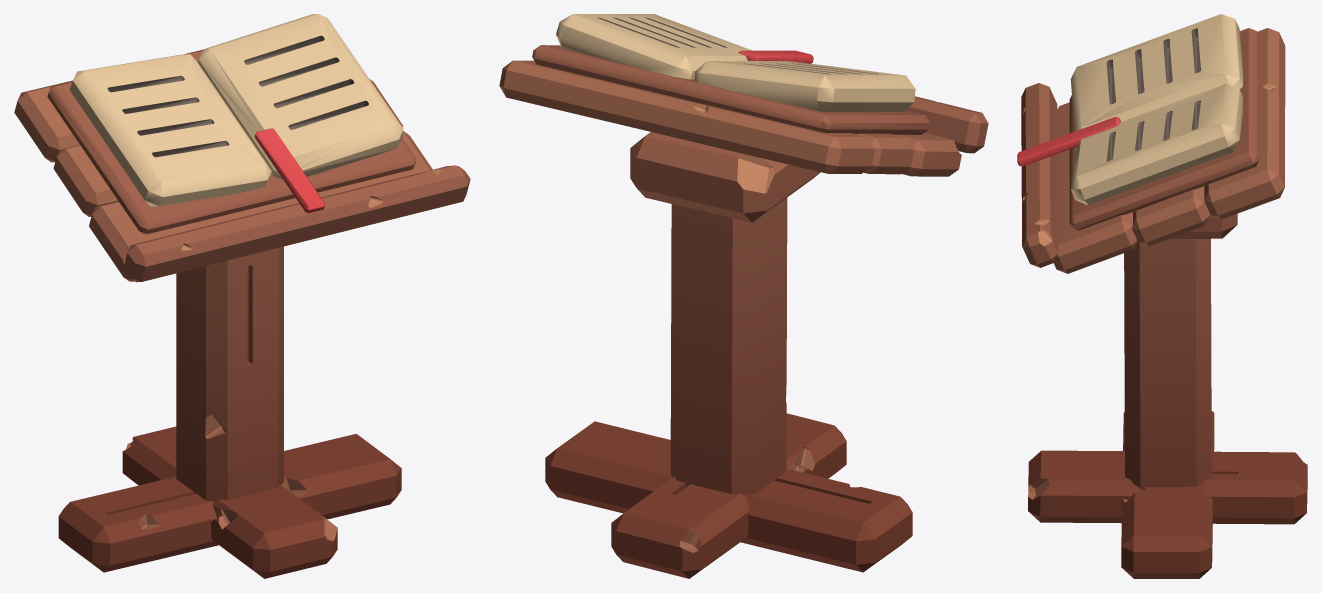
The model's file is lectern.glb.
The picture shows the model from 3 angles, left to right: view 1: azimuth 30°, elevation 25°; view 2: azimuth 150°, elevation 25°; view 3: azimuth 270°, elevation 25°; orthographic projection. The views are drawn at different scales.
Parts seen in each view (by area): view 1: lectern; view 2: lectern; view 3: lectern.
Boxes of the visible parts, x1,y1,x2,y2 form: lectern: (14, 14, 470, 578); lectern: (499, 14, 988, 578); lectern: (1017, 14, 1307, 578).
Size of the model in its own units: 1.22 by 1.6 by 0.9503.
Materials: 1 (1 with a texture image).
